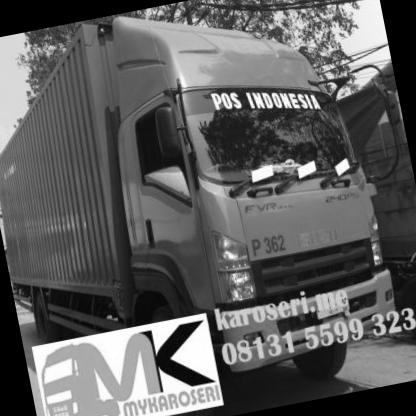truck: (1, 1, 406, 416)
